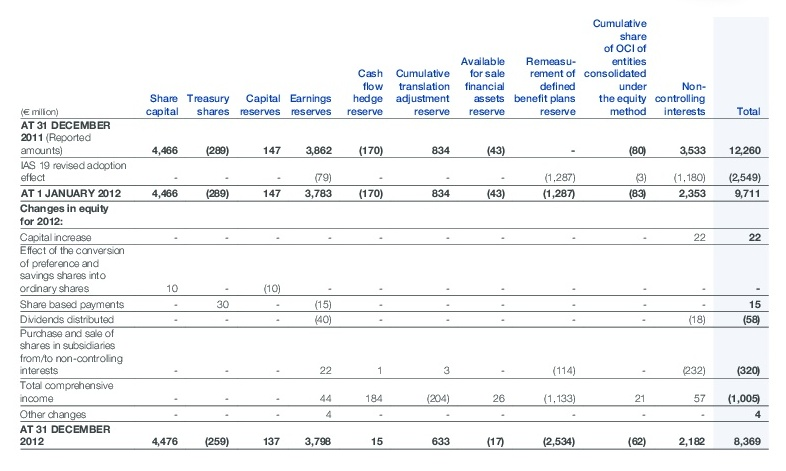table: (0, 0, 786, 471)
